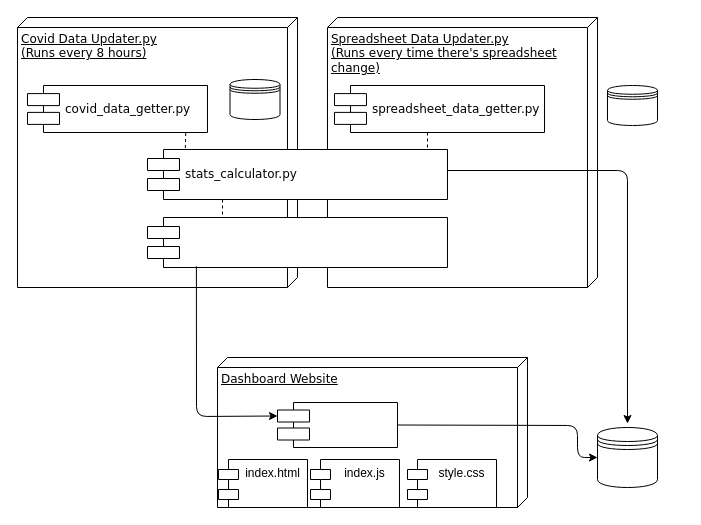
Image size: 701x525. Some labels were removed from this diagram. Here are the shapes that lost their labels. From the top down, the centre of each, then its label:
At (254,99): "covid_data.csv".
At (632,105): "manual_inputs.json".
At (297,242): "server_updater.py".
At (337,425): "web_app.py".
At (627,457): "country_stats.json".
